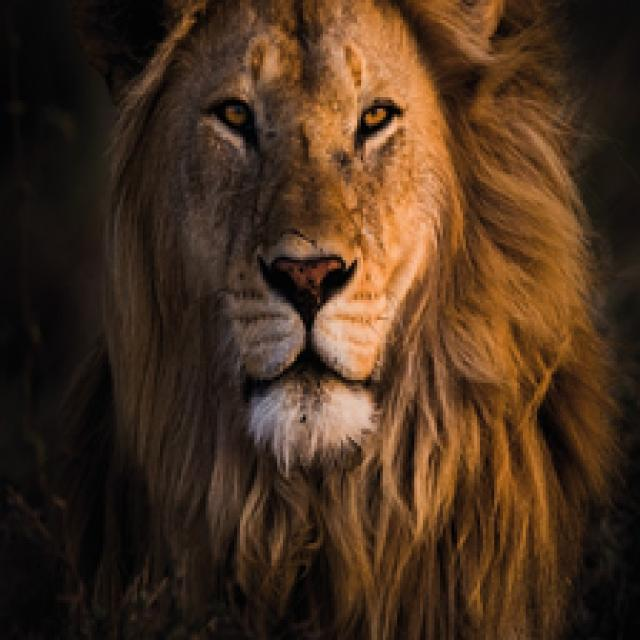lion: (76, 3, 617, 584)
